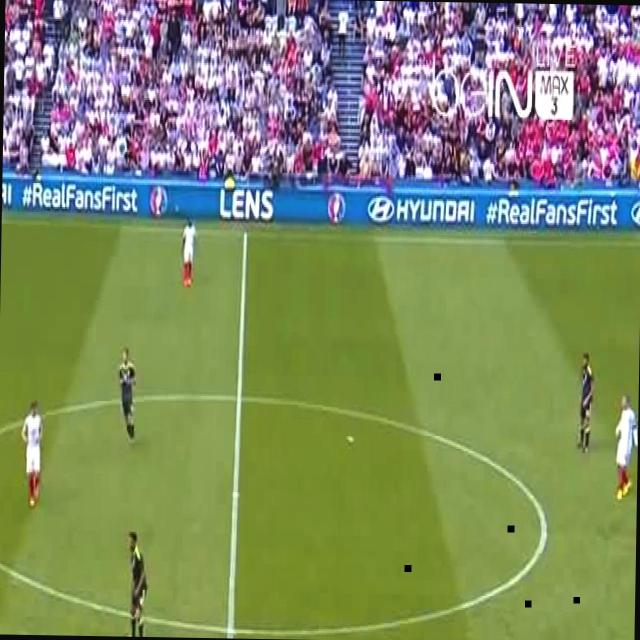player-white: (124, 529, 148, 637), (614, 395, 638, 499), (21, 402, 43, 507), (118, 344, 140, 444), (577, 349, 594, 453), (180, 214, 196, 290)
